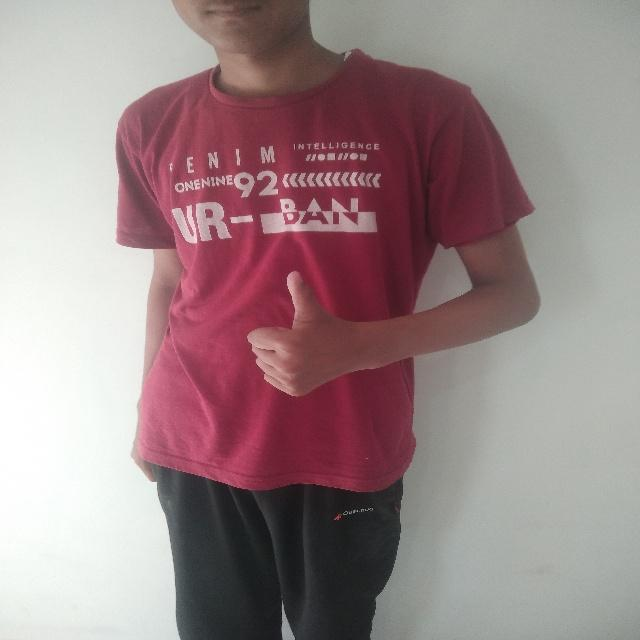Thumbs Up: (242, 264, 370, 404)
